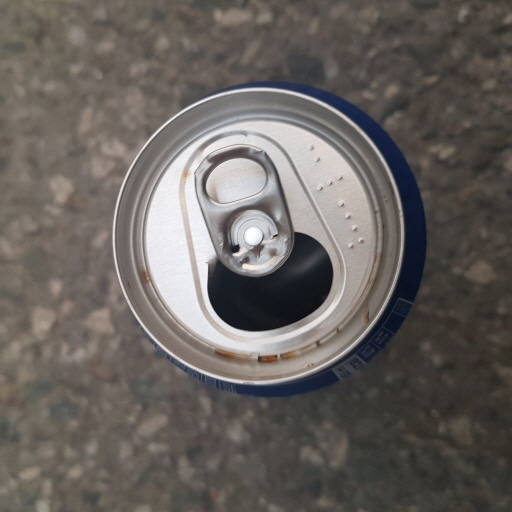Metal_0: (108, 80, 430, 394)
